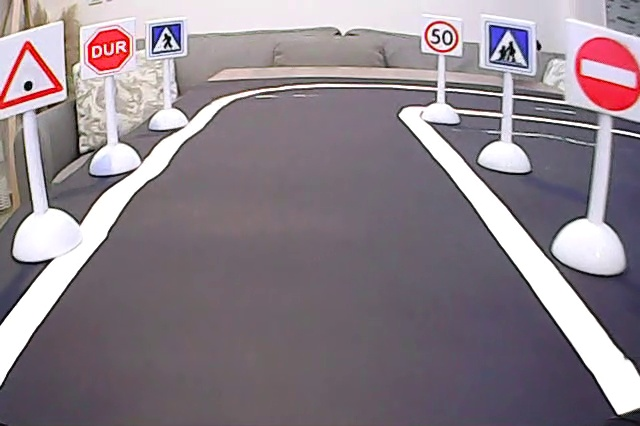do not enter: (570, 27, 640, 113)
green light: (1, 36, 66, 106)
pedestrian crossing: (149, 20, 185, 54)
school crossing: (483, 18, 531, 68)
speed limit 50: (423, 19, 460, 53)
stop sign: (83, 26, 135, 74)
